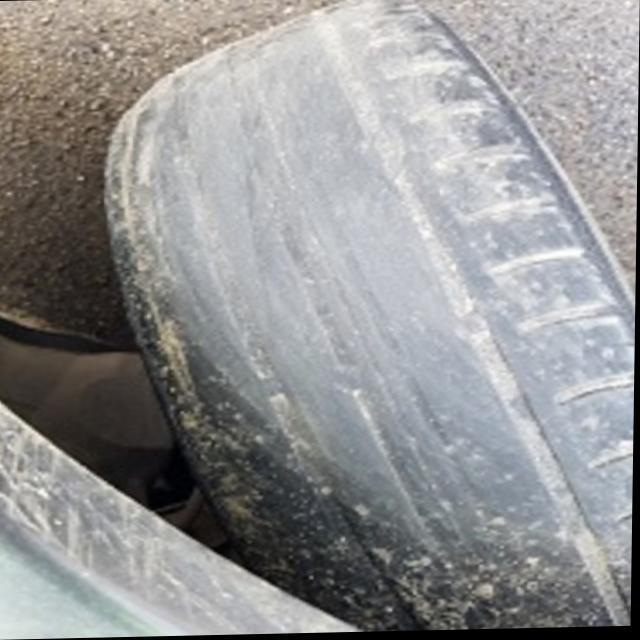Flat spots: (282, 11, 432, 602), (442, 139, 618, 624), (125, 54, 271, 503)
